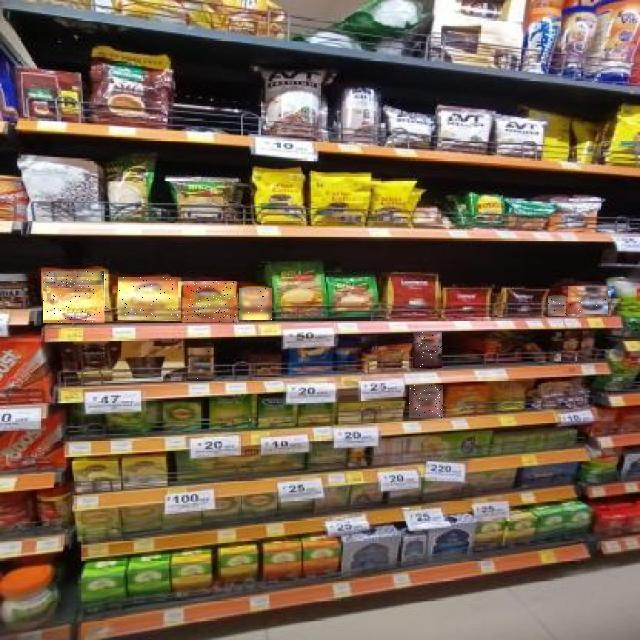Coffee: (44, 271, 108, 323), (119, 277, 179, 320), (184, 281, 236, 322), (409, 385, 443, 418), (569, 286, 609, 314), (239, 288, 272, 320), (413, 332, 442, 368), (414, 332, 444, 366), (190, 348, 213, 380), (548, 296, 566, 316)
